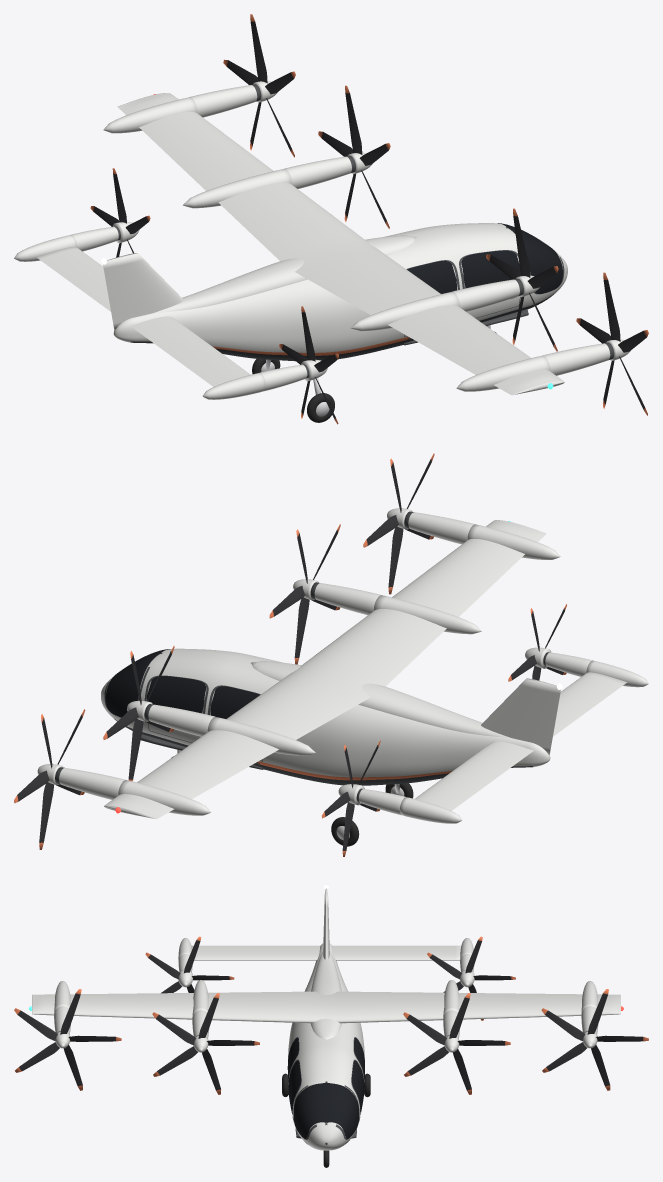
The model's file is sema.glb.
3 renders of one model, top to bottom at view 1: azimuth 30°, elevation 25°; view 2: azimuth 150°, elevation 25°; view 3: azimuth 270°, elevation 25°, orthographic. The views are drawn at different scales.
Visible parts, largest first — view 1: kanat, govde, yatay_kuyruk, dikey_kuyruk, sirt, pervane_2, pervane_0, pervane_1, pervane_3, nasel_arka_0, nasel_arka_1, yan_cam.002 (+14 smaller); view 2: kanat, govde, yatay_kuyruk, dikey_kuyruk, sirt, yan_cam, pervane_3, pervane_1, pervane_2, pervane_0, on_cam, nasel_arka_1 (+14 smaller); view 3: kanat, govde, yatay_kuyruk, on_cam, pervane_2, pervane_3, pervane_0, pervane_1, sirt, pervane_5, pervane_4, nasel_arka_1 (+3 smaller).
Boxes of the visible parts, <box> form: kanat: <box>117,93,564,395</box>; govde: <box>113,223,567,361</box>; yatay_kuyruk: <box>36,247,250,386</box>; dikey_kuyruk: <box>103,253,183,330</box>; sirt: <box>153,235,416,313</box>; pervane_2: <box>223,14,295,157</box>; pervane_0: <box>318,85,390,228</box>; pervane_1: <box>486,208,558,351</box>; pervane_3: <box>576,272,648,415</box>; nasel_arka_0: <box>183,169,291,208</box>; nasel_arka_1: <box>351,292,459,331</box>; yan_cam.002: <box>461,250,520,288</box>; kanat: <box>104,520,546,819</box>; govde: <box>101,648,550,785</box>; yatay_kuyruk: <box>415,672,627,810</box>; dikey_kuyruk: <box>481,678,560,754</box>; sirt: <box>251,661,510,737</box>; yan_cam: <box>147,676,206,713</box>; pervane_3: <box>363,453,434,594</box>; pervane_1: <box>269,524,340,664</box>; pervane_2: <box>14,709,85,849</box>; pervane_0: <box>103,646,174,781</box>; on_cam: <box>105,649,169,717</box>; nasel_arka_1: <box>373,595,481,634</box>; kanat: <box>32,991,620,1023</box>; govde: <box>288,943,364,1150</box>; yatay_kuyruk: <box>191,945,461,960</box>; on_cam: <box>293,1082,359,1138</box>; pervane_2: <box>541,989,648,1090</box>; pervane_3: <box>14,989,121,1090</box>; pervane_0: <box>403,993,510,1094</box>; pervane_1: <box>152,993,259,1094</box>; sirt: <box>310,951,341,1039</box>; pervane_5: <box>145,936,234,993</box>; pervane_4: <box>427,936,515,1020</box>; nasel_arka_1: <box>192,980,208,1015</box>.
Bounding box in the file's own units: 7.82 × 3.46 × 12.4.
